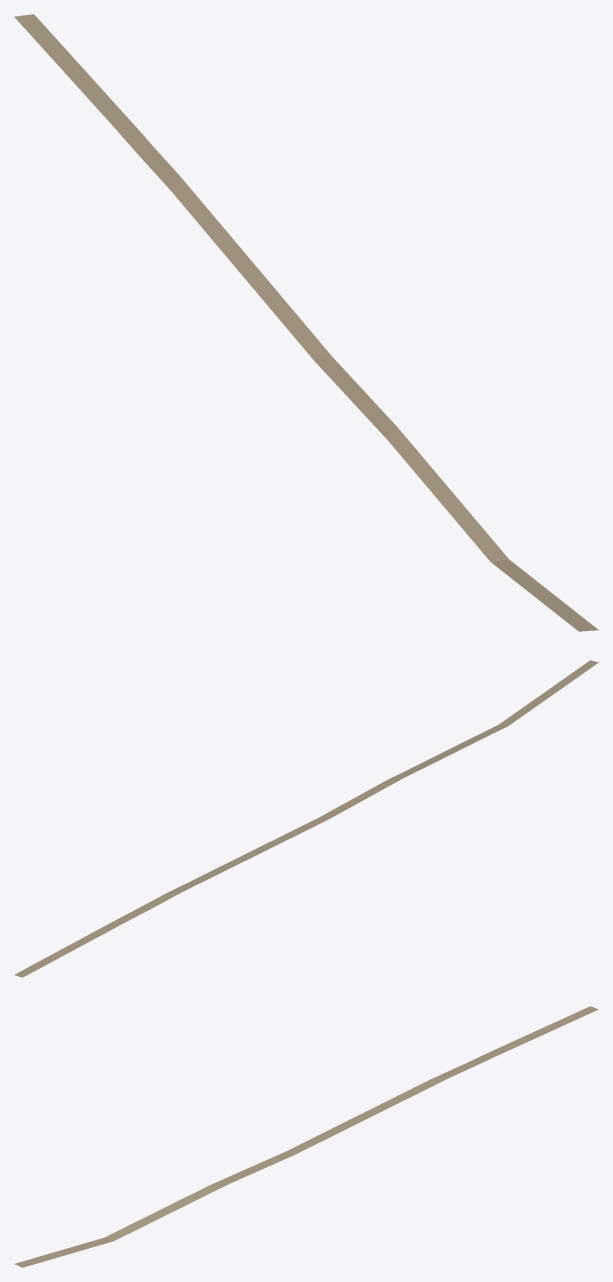
File: farm_-58_-54_track.glb
3 renders of one model, top to bottom at view 1: azimuth 30°, elevation 25°; view 2: azimuth 150°, elevation 25°; view 3: azimuth 330°, elevation 25°, orthographic. The views are drawn at different scales.
Parts seen in each view (by area): view 1: geometry_0; view 2: geometry_0; view 3: geometry_0.
Part boxes in pixels (bbox=[...]): geometry_0: bbox=[14, 14, 598, 631]; geometry_0: bbox=[14, 660, 598, 977]; geometry_0: bbox=[14, 1006, 598, 1267].
Size of the model in its own units: 49.95 by 9.36 by 256.
